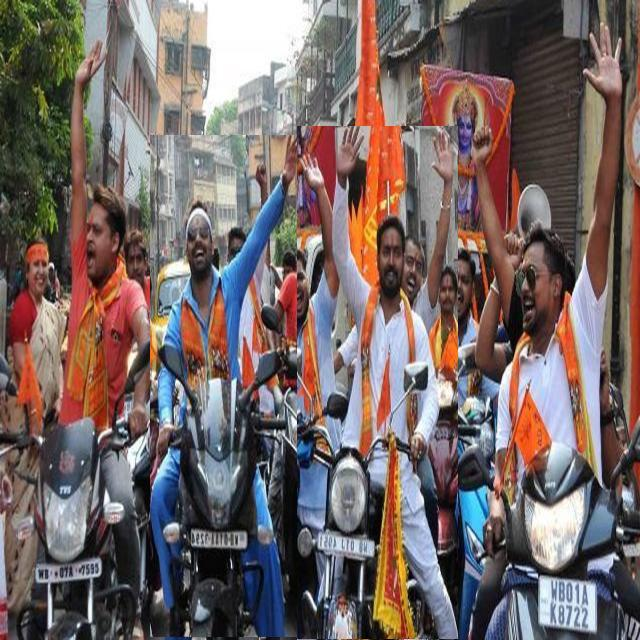motorcycle: (456, 26, 640, 639), (298, 126, 458, 640), (18, 40, 150, 638), (150, 136, 300, 637)
